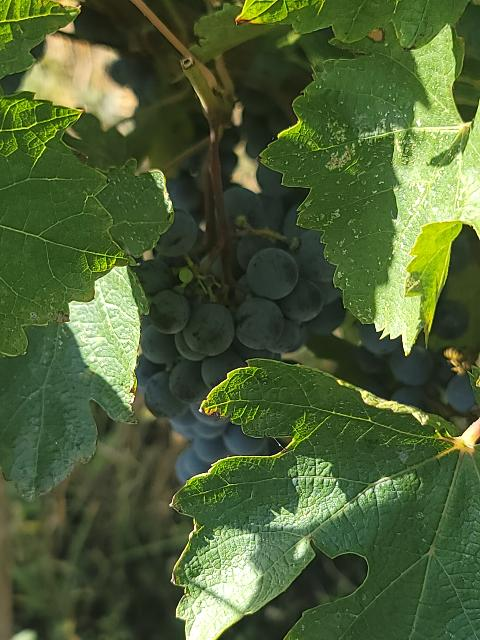grapes: (132, 208, 332, 481)
